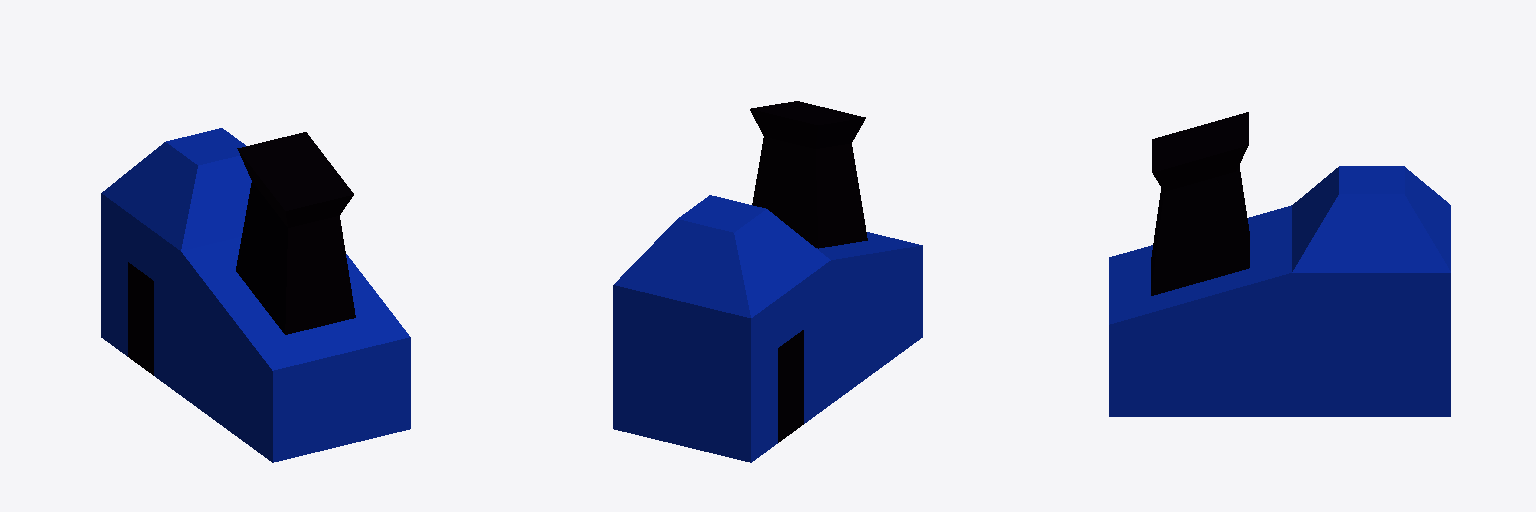
The model's file is Casa.obj.
3 renders of one model, left to right at view 1: azimuth 30°, elevation 25°; view 2: azimuth 150°, elevation 25°; view 3: azimuth 270°, elevation 25°, orthographic.
Visible parts, largest first — view 1: Casa; view 2: Casa; view 3: Casa.
Boxes of the visible parts, <box> form: Casa: <box>101,128,410,462</box>; Casa: <box>613,101,922,462</box>; Casa: <box>1109,112,1450,416</box>.
Bounding box in the file's own units: 4.21 × 7.43 × 9.06.